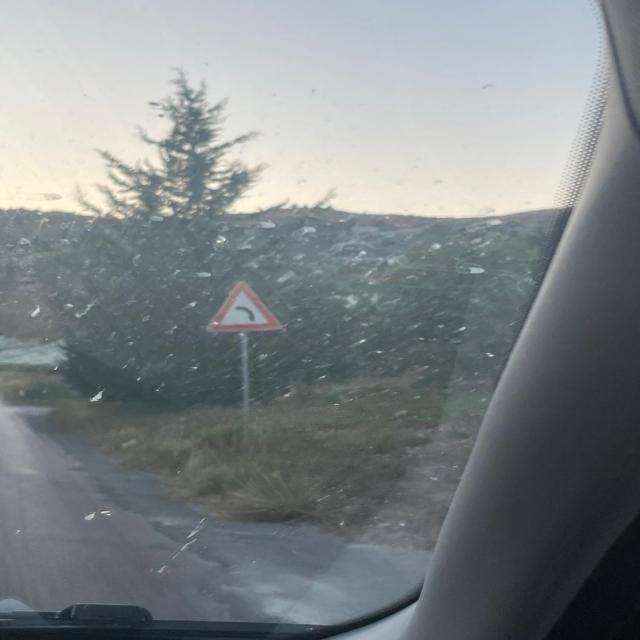warn_left_curve: (206, 280, 284, 333)
